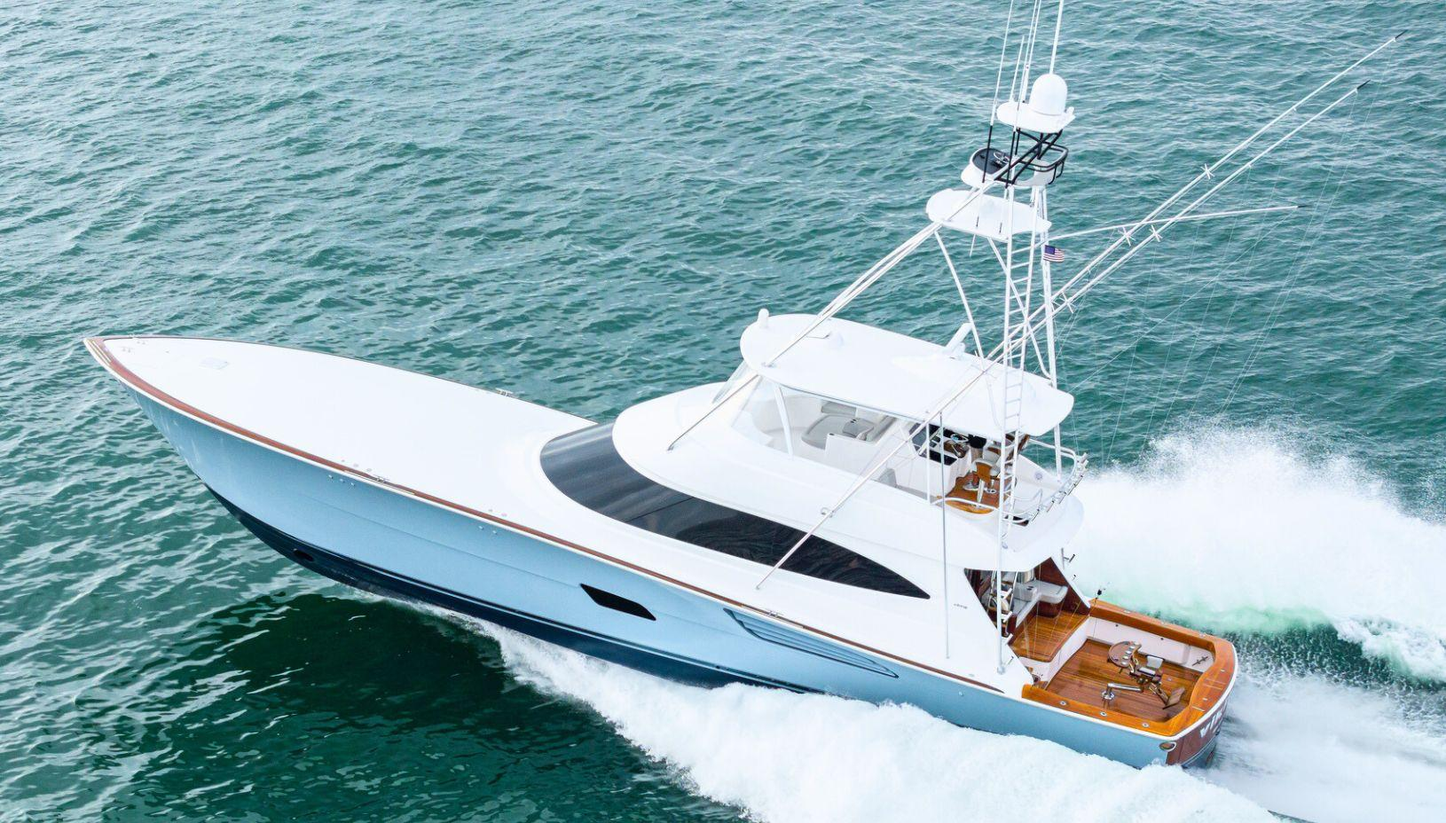fishing boat: (74, 0, 1411, 760)
